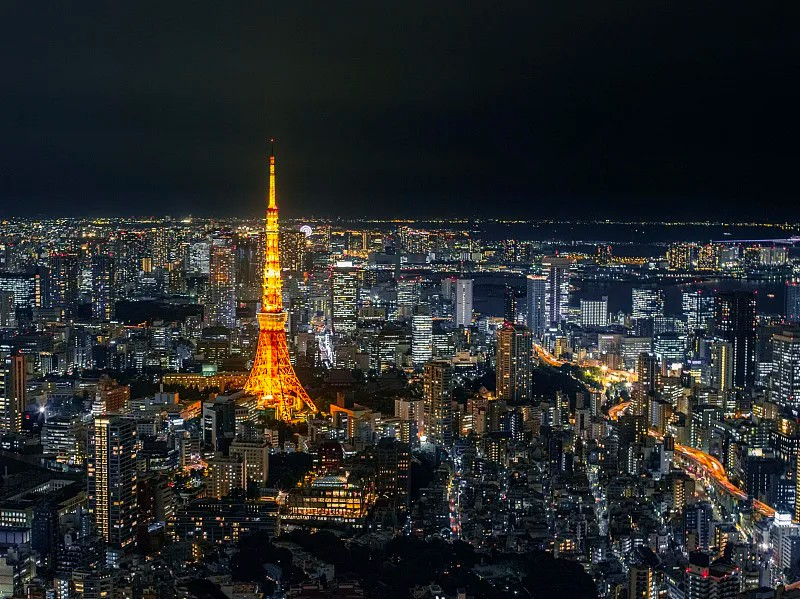Tokyo: (241, 134, 319, 427)
